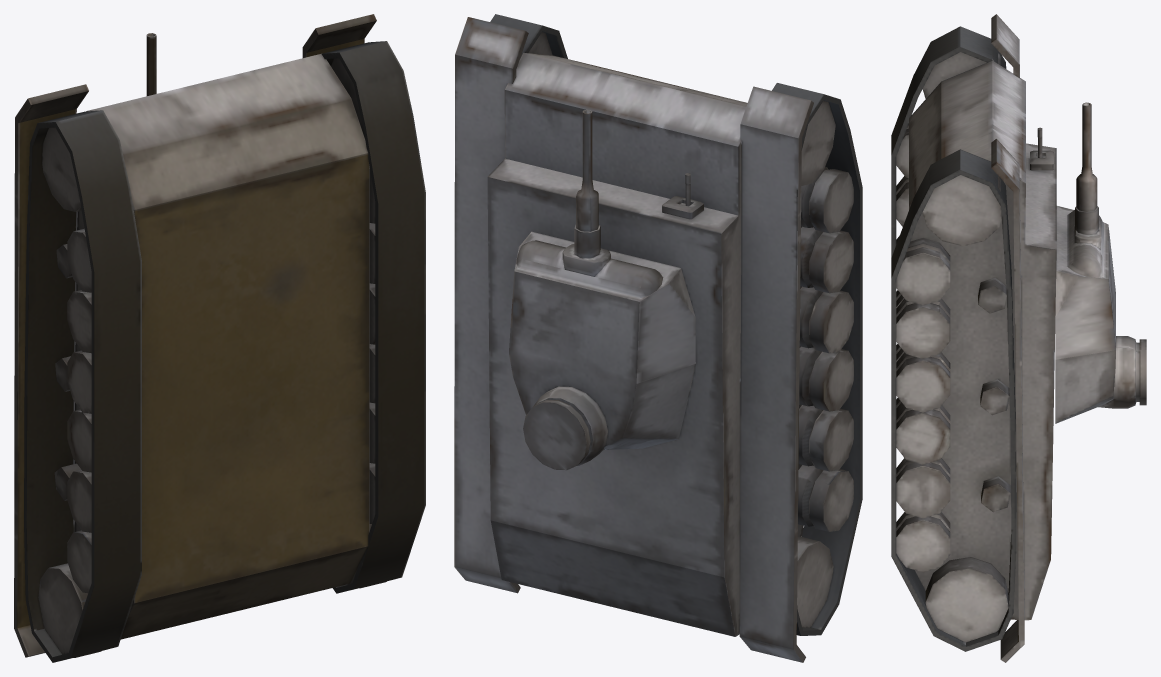
File: Pz.III_F.fbx
3 renders of one model, left to right at view 1: azimuth 30°, elevation 25°; view 2: azimuth 150°, elevation 25°; view 3: azimuth 270°, elevation 25°, orthographic. The views are drawn at different scales.
Visible parts, largest first — view 1: Pz.III_F_Body, Pz.III_F_Turret; view 2: Pz.III_F_Body, Pz.III_F_Turret; view 3: Pz.III_F_Body, Pz.III_F_Turret.
Boxes of the visible parts, x1,y1,x2,y2 form: Pz.III_F_Body: [14, 14, 425, 662]; Pz.III_F_Turret: [146, 33, 156, 95]; Pz.III_F_Body: [454, 14, 862, 662]; Pz.III_F_Turret: [509, 109, 695, 470]; Pz.III_F_Body: [891, 14, 1056, 662]; Pz.III_F_Turret: [1055, 102, 1146, 423].
Size of the model in its own units: 113 by 175 by 80.98.
